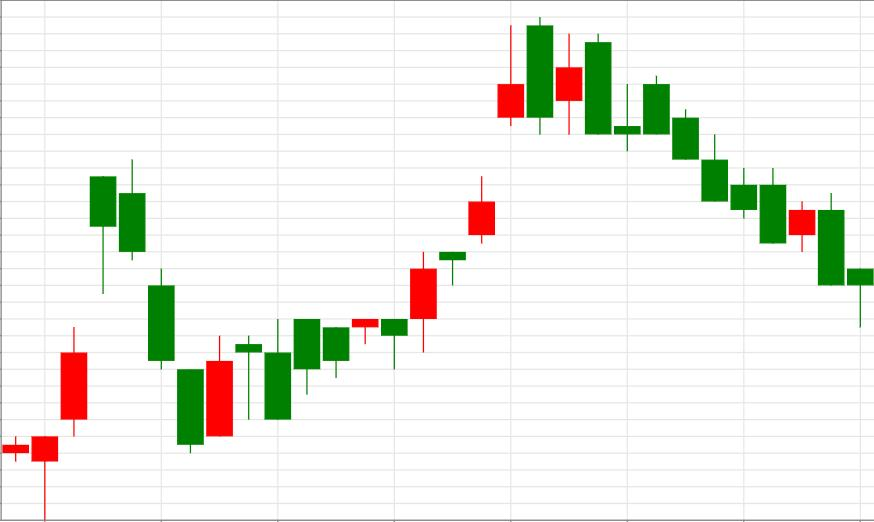shooting_star_fall: (381, 26, 523, 368)
three_black_crows_fall: (32, 157, 204, 522)
